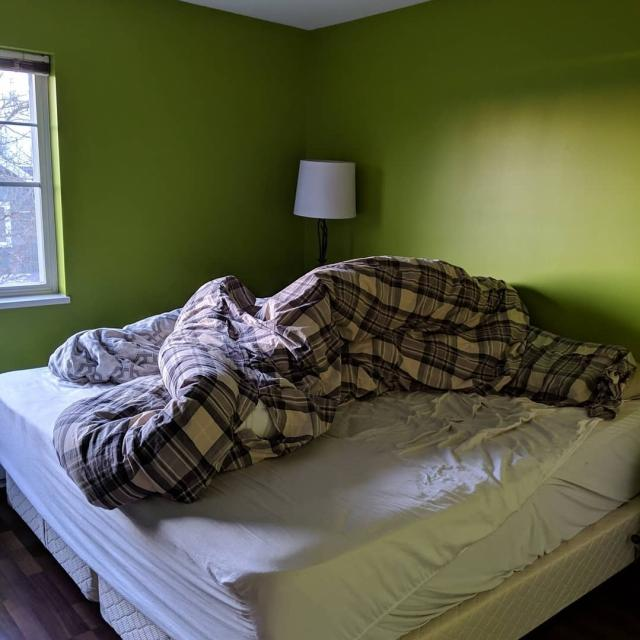bed: (15, 248, 628, 640)
